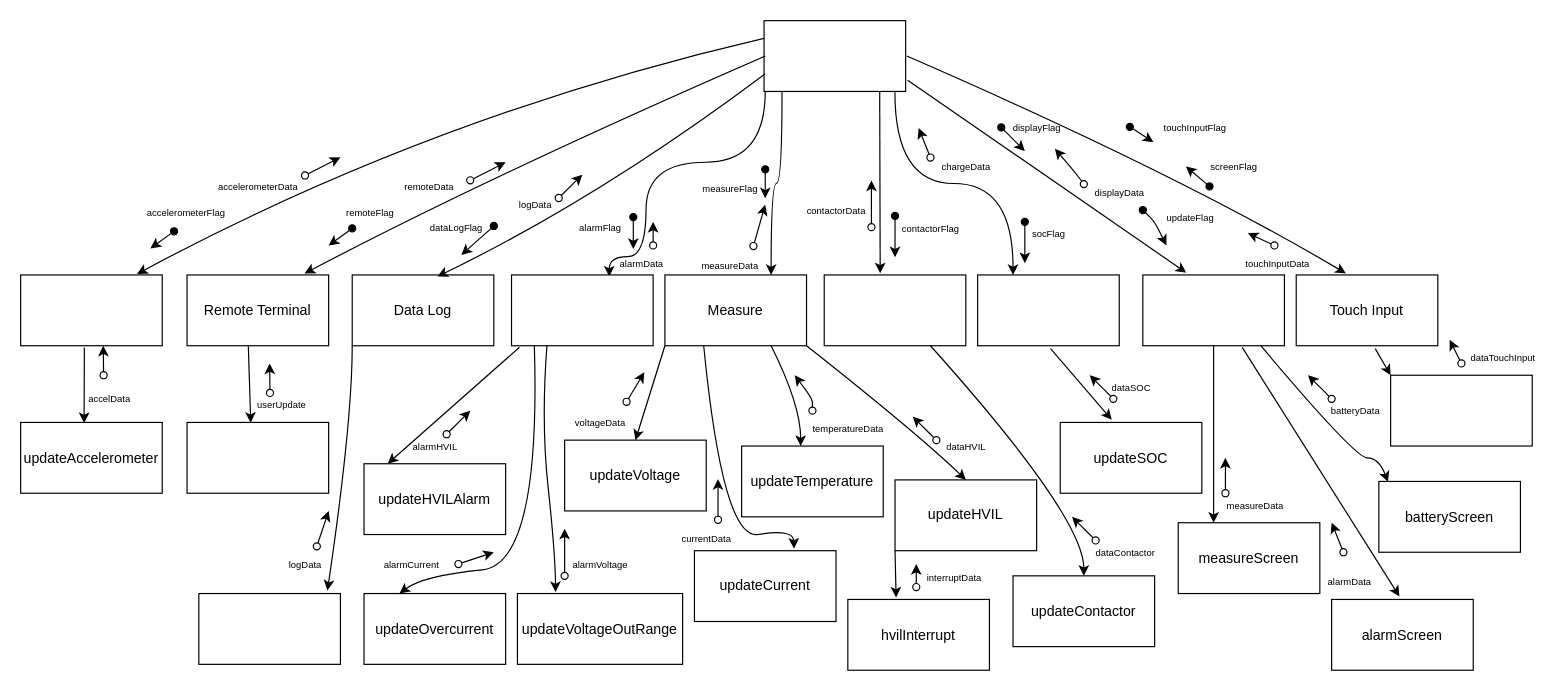
This 1565x691 diagram has some shape labels left out. The shapes that lost their labels are listed below. From the top down, each one's centre as x and y in pixels, then its label:
the point at 834,55: Scheduler
the point at 90,310: Accelerometer
the point at 581,310: Alarm
the point at 894,310: Contactor
the point at 1047,310: State of Charge
the point at 1213,310: Display
the point at 1460,410: userTouchInput
the point at 257,457: userMonitorInput
the point at 269,628: updateLog
